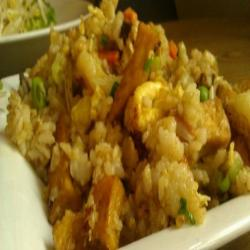rice: (47, 42, 223, 227)
